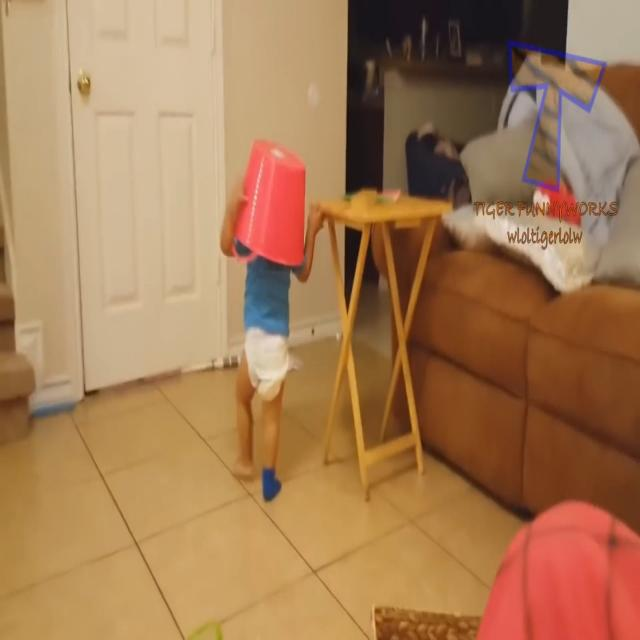dangerous: (219, 124, 325, 508)
